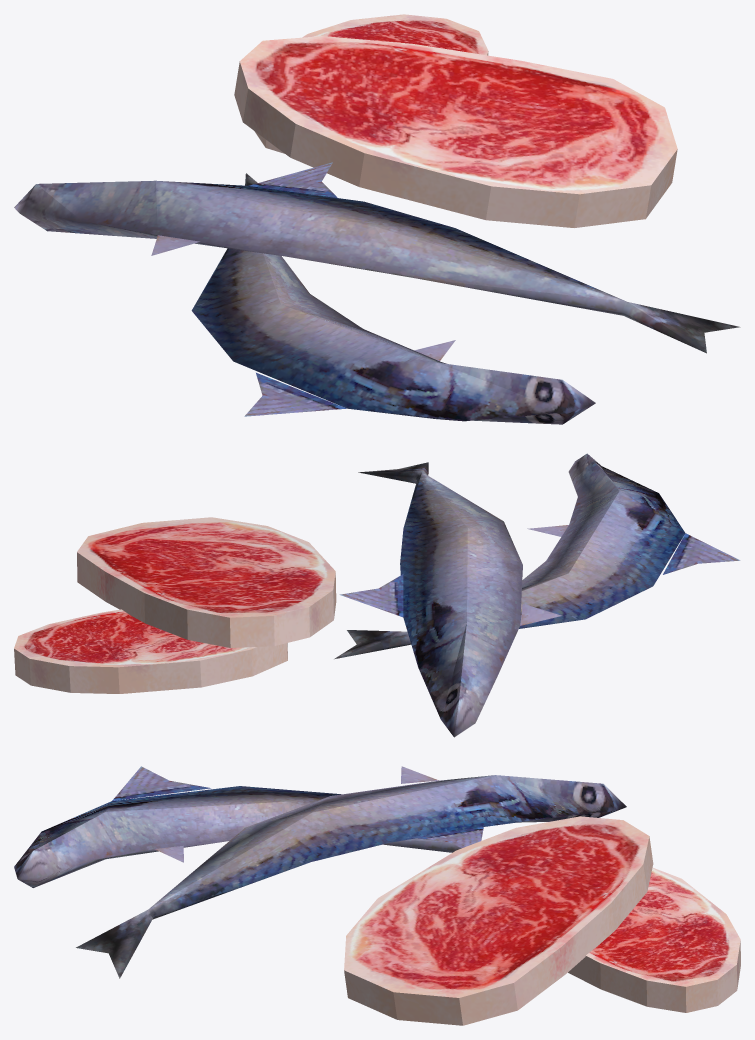
The model's file is bg_atm_leonhart_storefood01_mi_old.FBX.
The picture shows the model from 3 angles, top to bottom: view 1: azimuth 30°, elevation 25°; view 2: azimuth 150°, elevation 25°; view 3: azimuth 270°, elevation 25°; orthographic projection. The views are drawn at different scales.
Parts seen in each view (by area): view 1: bg_atm_leonhart_storefood01_mi_old; view 2: bg_atm_leonhart_storefood01_mi_old; view 3: bg_atm_leonhart_storefood01_mi_old.
Part boxes in pixels (left/top/right/bottom): bg_atm_leonhart_storefood01_mi_old: left=14, top=14, right=740, bottom=424; bg_atm_leonhart_storefood01_mi_old: left=14, top=453, right=740, bottom=737; bg_atm_leonhart_storefood01_mi_old: left=14, top=766, right=740, bottom=1025.
Bounding box in the file's own units: 81.26 × 13.24 × 100.
